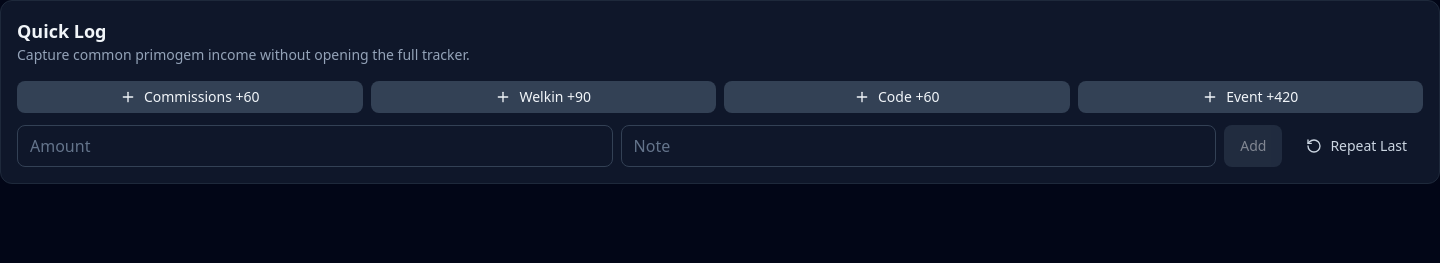
Scenario: QuickResourceLogger › undoes the last quick log entry
This screenshot has width=1440, height=263.
Click the button "Welkin +90".
click(543, 97)  # box [370,81,716,113]
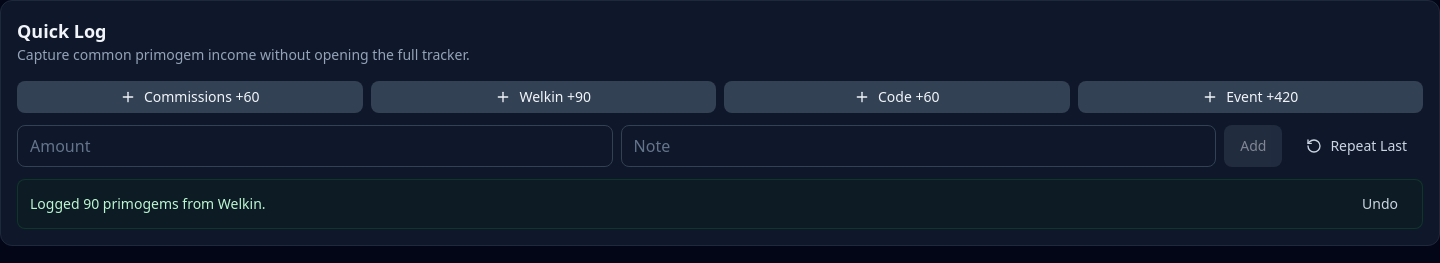
Click the button "Undo".
click(1380, 204)  # box [1350,188,1410,220]
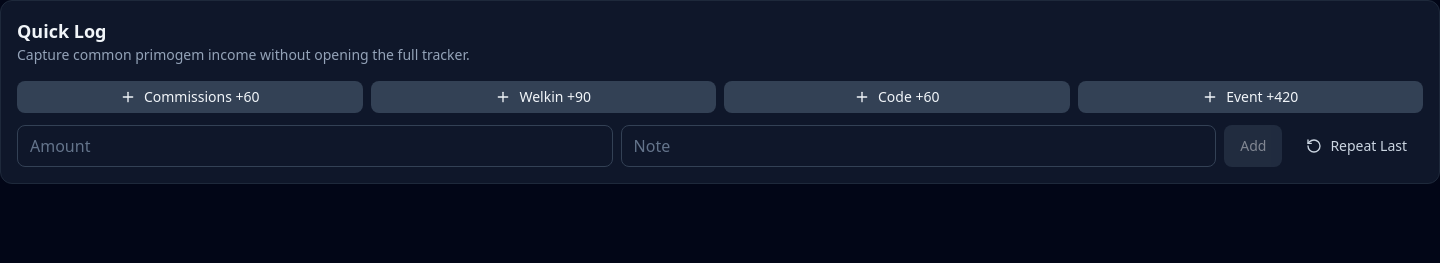
Result: the text "Logged 90 primogems" is gone
